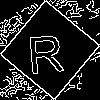R: (25, 25, 65, 75)
